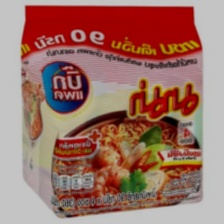snack: (11, 0, 213, 224)
